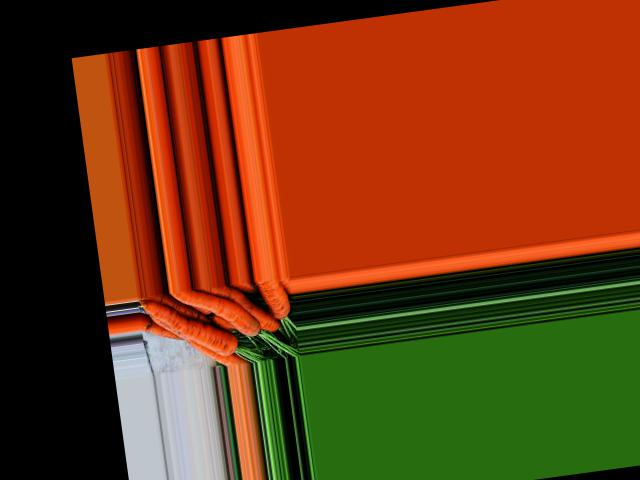carrot: (258, 277, 296, 327)
